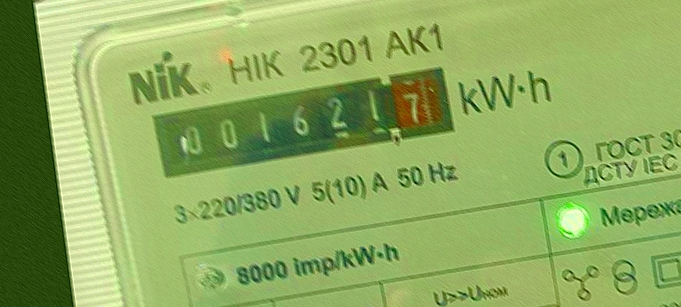0: (215, 113, 241, 153), (180, 120, 205, 157)
1: (254, 107, 273, 145), (363, 85, 382, 123)
2: (324, 93, 350, 131)
6: (288, 102, 311, 138)
7: (399, 88, 424, 126)
screen: (145, 63, 461, 184)
